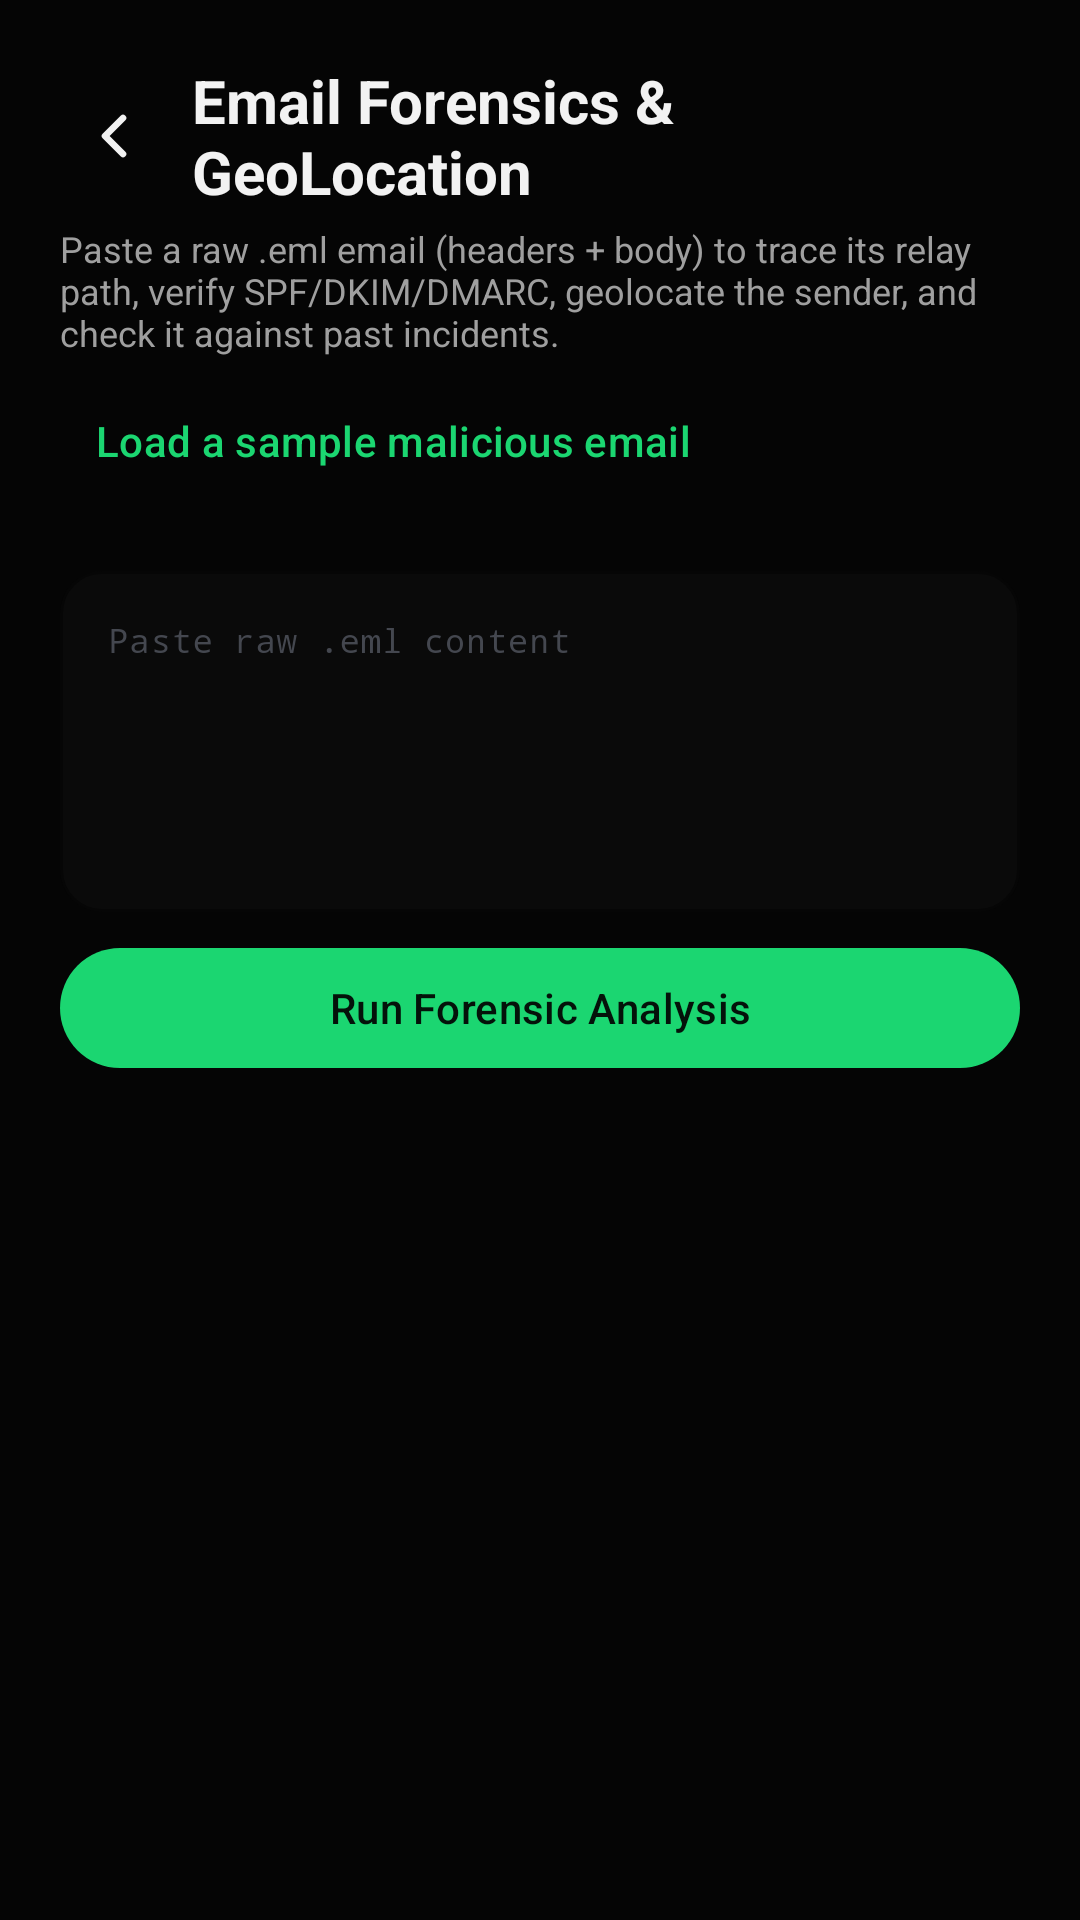

Named icons in this screenshot (1080 × 1920) and their centers, point (x, y):
Back: point (114, 136)
